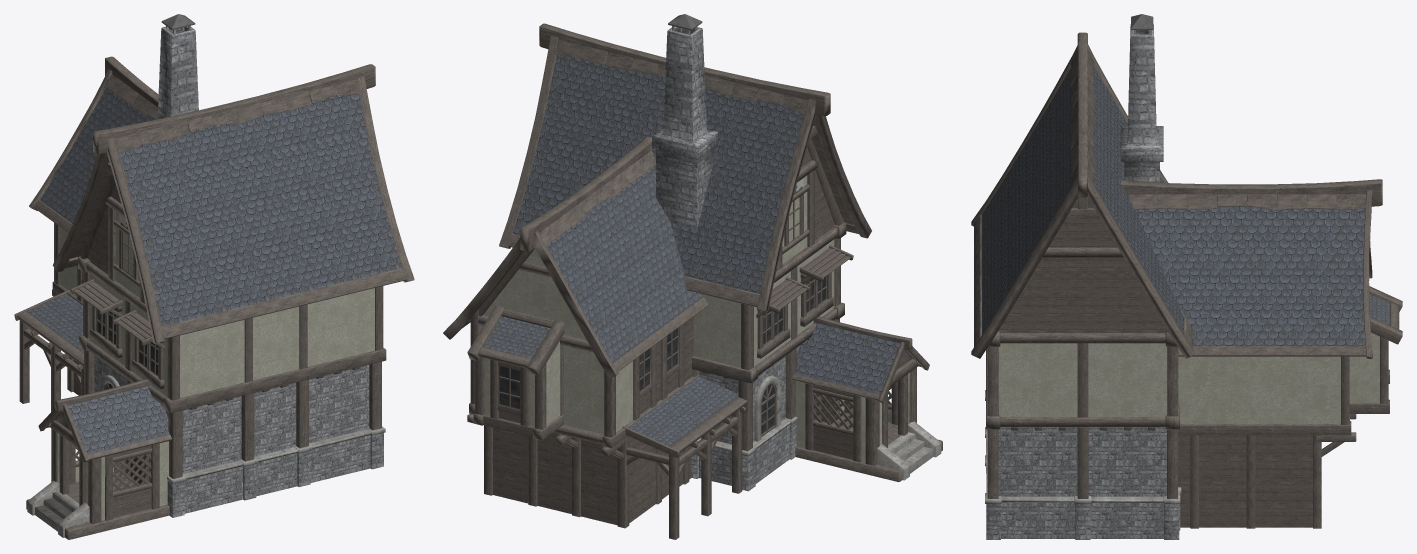
The model's file is house1.glb.
The picture shows the model from 3 angles, left to right: view 1: azimuth 30°, elevation 25°; view 2: azimuth 150°, elevation 25°; view 3: azimuth 270°, elevation 25°; orthographic projection. The views are drawn at different scales.
Parts seen in each view (by area): view 1: Cube.013, Cube, Cube.018, Cube.111, Cube.154, Cube.219, Cube.113, Cube.271, Cube.105, Cube.076, Cube.215, Cube.182 (+39 smaller); view 2: Cube.112, Cube.118, Cube.154, Cube, Cube.271, Cube.222, Cube.110, Cube.182, pasted__Cube.219, Cube.105, Cube.215, Cube.224 (+42 smaller); view 3: Cube, Cube.015, Cube.118, Cube.013, Cube.112, Cube.271, Cube.014, Cube.224, Cube.111, Cube.110, Cube.089, Cube.161 (+25 smaller).
Part boxes in pixels (x1=…): Cube.013: x1=119, y1=94, x2=401, y2=326; Cube: x1=87, y1=185, x2=374, y2=513; Cube.018: x1=67, y1=385, x2=169, y2=454; Cube.111: x1=107, y1=76, x2=414, y2=343; Cube.154: x1=40, y1=88, x2=154, y2=223; Cube.219: x1=115, y1=79, x2=360, y2=152; Cube.113: x1=162, y1=268, x2=406, y2=338; Cube.271: x1=157, y1=26, x2=198, y2=119; Cube.105: x1=93, y1=64, x2=375, y2=153; Cube.076: x1=163, y1=348, x2=386, y2=413; Cube.215: x1=56, y1=412, x2=168, y2=520; Cube.182: x1=27, y1=294, x2=83, y2=353; Cube.112: x1=512, y1=54, x2=803, y2=294; Cube.118: x1=480, y1=249, x2=693, y2=525; Cube.154: x1=546, y1=167, x2=702, y2=362; Cube: x1=693, y1=147, x2=834, y2=485; Cube.271: x1=652, y1=26, x2=718, y2=228; Cube.222: x1=794, y1=322, x2=900, y2=394; Cube.110: x1=499, y1=35, x2=815, y2=311; Cube.182: x1=628, y1=376, x2=738, y2=446; pasted__Cube.219: x1=555, y1=39, x2=807, y2=114; Cube.105: x1=539, y1=23, x2=830, y2=116; Cube.215: x1=795, y1=350, x2=911, y2=462; Cube.224: x1=520, y1=136, x2=652, y2=251; Cube: x1=998, y1=197, x2=1167, y2=538; Cube.015: x1=1139, y1=201, x2=1365, y2=345; Cube.118: x1=1178, y1=356, x2=1340, y2=527; Cube.013: x1=981, y1=68, x2=1072, y2=334; Cube.112: x1=1093, y1=67, x2=1183, y2=333; Cube.271: x1=1120, y1=24, x2=1163, y2=182; Cube.014: x1=1128, y1=194, x2=1365, y2=210; Cube.224: x1=1121, y1=179, x2=1382, y2=206; Cube.111: x1=971, y1=45, x2=1077, y2=358; Cube.110: x1=1087, y1=44, x2=1194, y2=358; Cube.089: x1=1178, y1=421, x2=1351, y2=435; Cube.161: x1=1178, y1=346, x2=1366, y2=356.
Size of the model in its own units: 10.7 by 12.6 by 10.77.
1 material, 1 textured.
